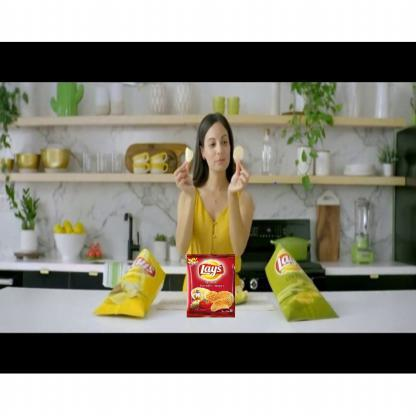classicsalted: (94, 247, 167, 319)
tangy_tomato: (186, 254, 234, 317)
